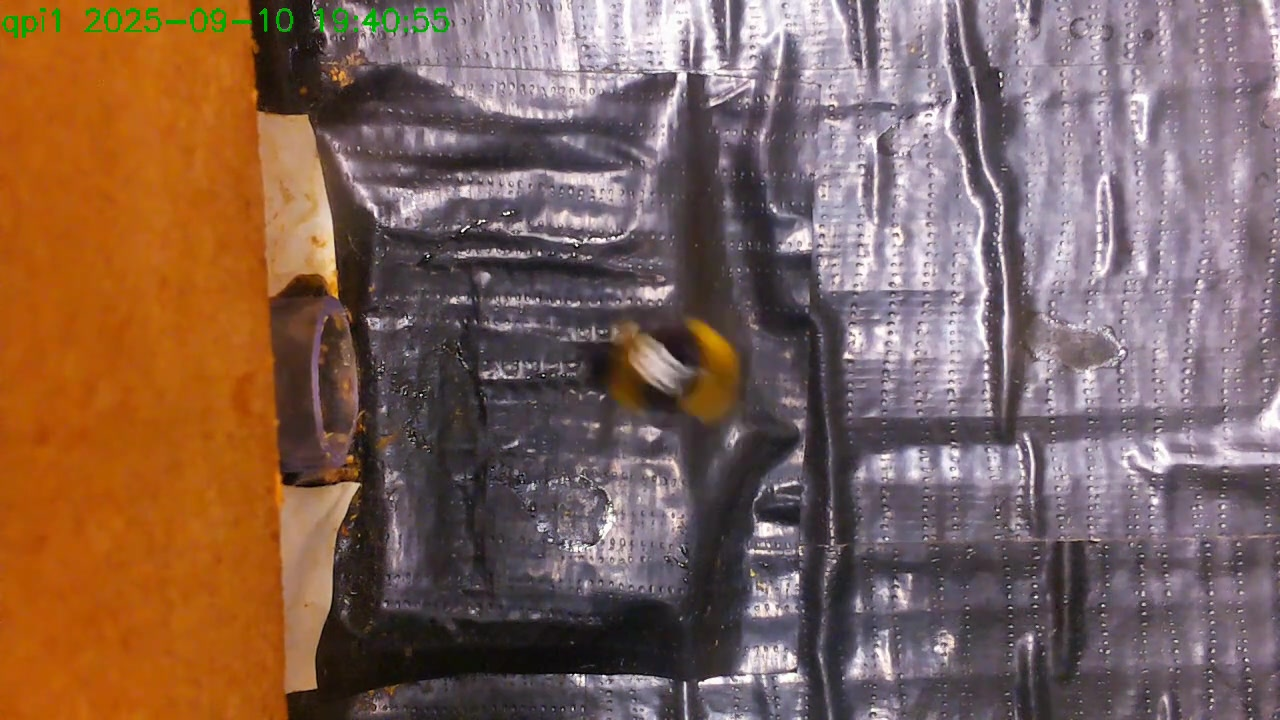bee: (566, 294, 749, 444)
